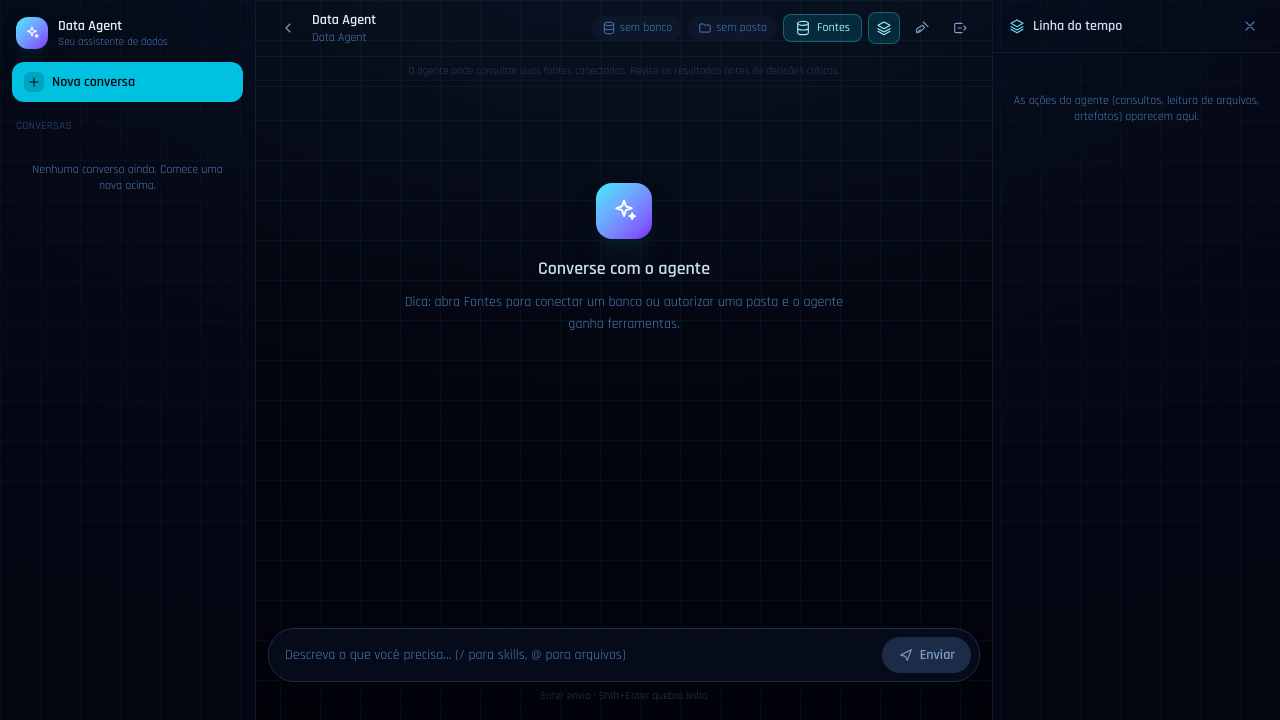
Test: turn endings › does NOT offer Continuar when the input was refused by a guardrail
Type "analise a pasta" into the text box at [579, 654], box 285,638 -> 874,670
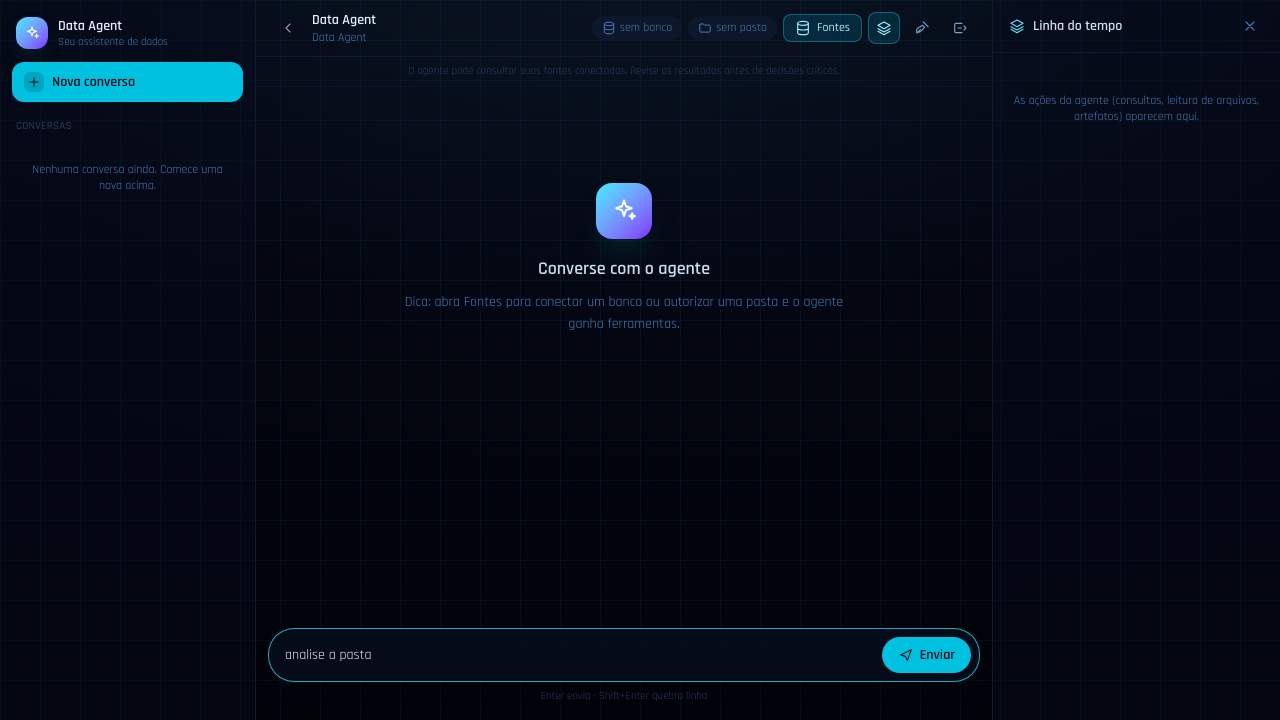
Press Enter
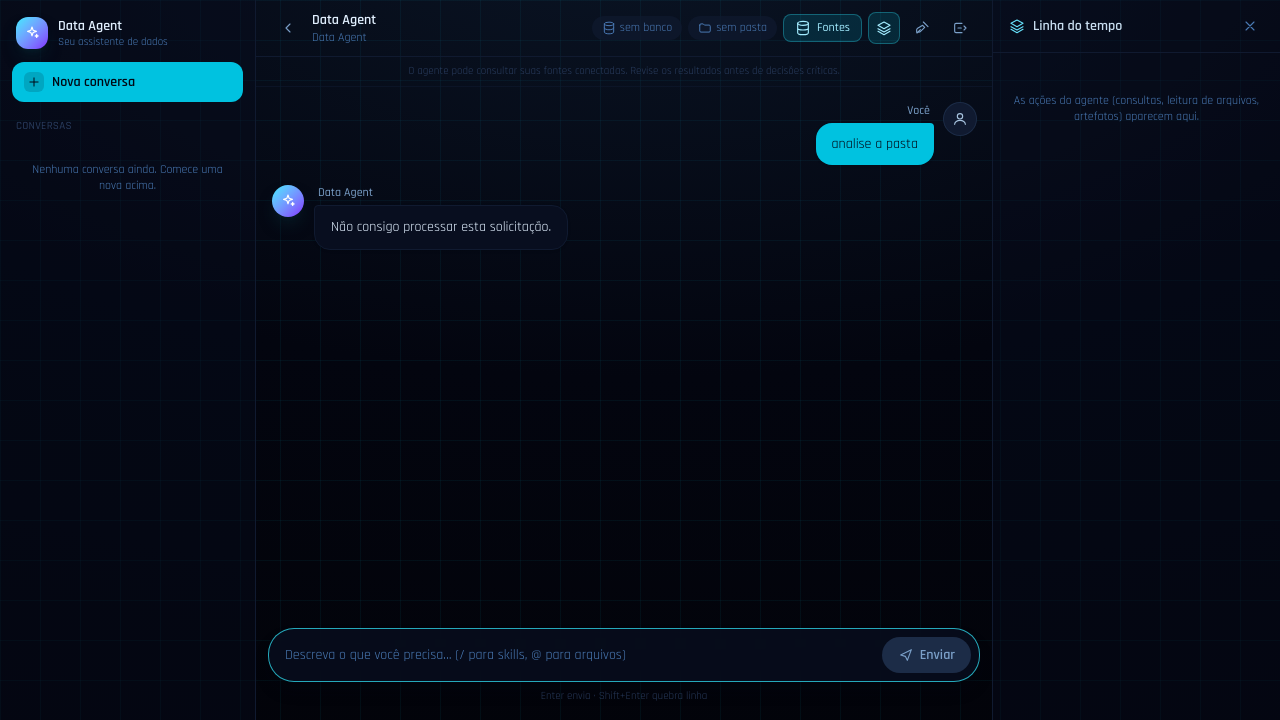
Check: the text "Não consigo processar esta solicitação." is shown, box 331,216 -> 551,239
